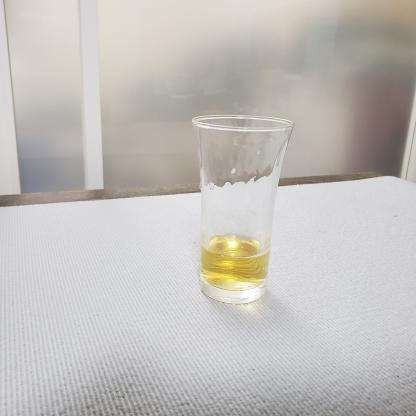glass: (185, 104, 303, 317)
